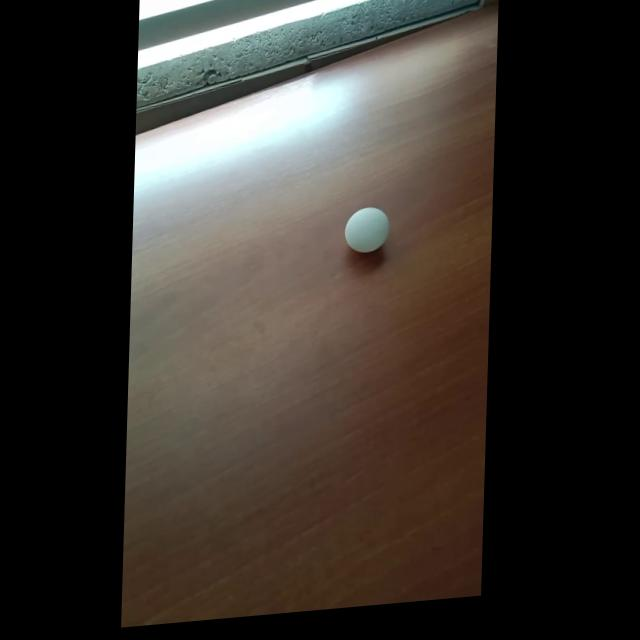white ball: (343, 205, 390, 255)
